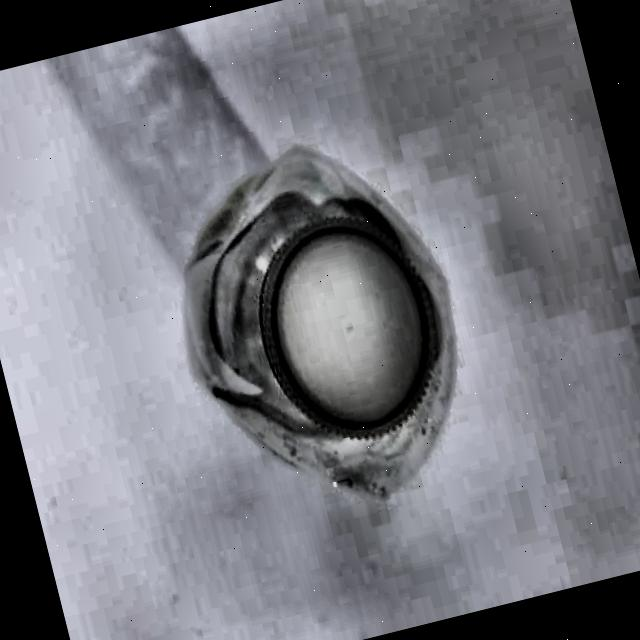plastic: (159, 135, 486, 531)
